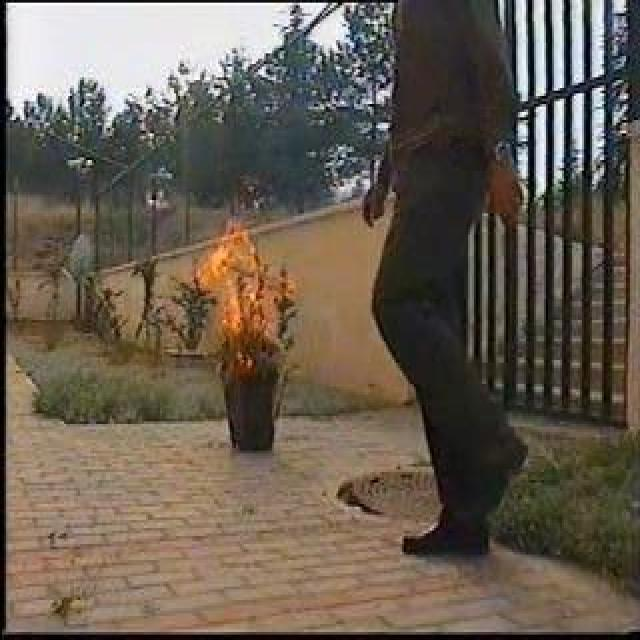Fire: (204, 220, 290, 359)
